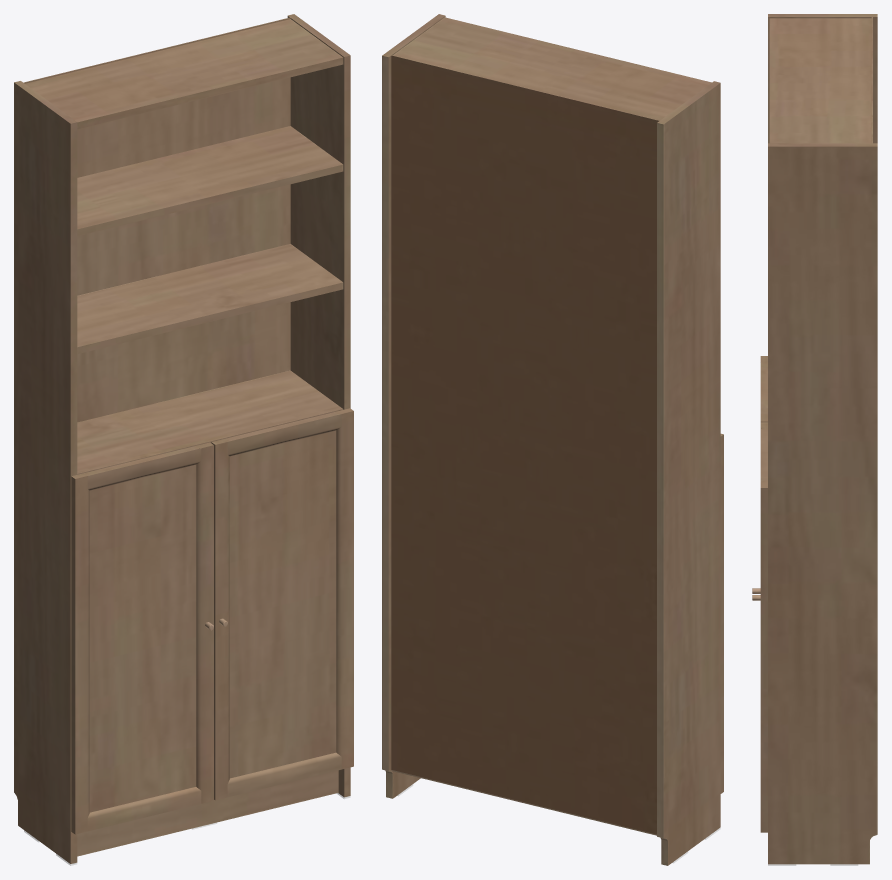
Rendered from billy_oxberg_bookcase_with_doors_oak_eff.glb.
The picture shows the model from 3 angles, left to right: view 1: azimuth 30°, elevation 25°; view 2: azimuth 150°, elevation 25°; view 3: azimuth 270°, elevation 25°; orthographic projection. The views are drawn at different scales.
Visible parts, largest first — view 1: Mesh_0; view 2: Mesh_0; view 3: Mesh_0.
Boxes of the visible parts, x1=… form: Mesh_0: x1=14, y1=14, x2=353, y2=863; Mesh_0: x1=382, y1=14, x2=723, y2=865; Mesh_0: x1=752, y1=14, x2=877, y2=864.
Size of the model in its own units: 0.8 by 2.02 by 0.32.
Materials: 2 (2 with a texture image).
